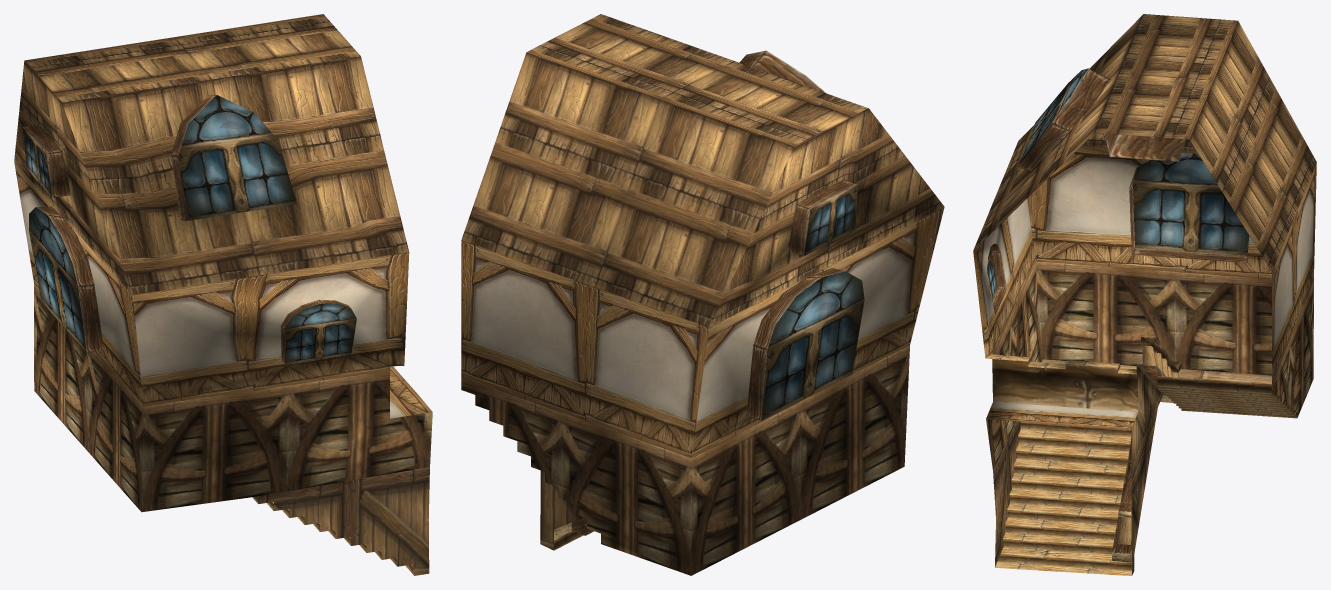
File: stormwind_059.fbx
3 views of the same model, side by side, from view 1: azimuth 30°, elevation 25°; view 2: azimuth 150°, elevation 25°; view 3: azimuth 270°, elevation 25° (orthographic). The views are drawn at different scales.
Visible parts, largest first — view 1: stormwind_059_55, stormwind_059_49, stormwind_059_48, stormwind_059_84, stormwind_059_56, stormwind_059_53; view 2: stormwind_059_55, stormwind_059_48, stormwind_059_49, stormwind_059_84, stormwind_059_53, stormwind_059_56; view 3: stormwind_059_53, stormwind_059_55, stormwind_059_49, stormwind_059_48, stormwind_059_84, stormwind_059_56, stormwind_059_54, stormwind_059_51.
Part boxes in pixels (left/top/right/bottom): stormwind_059_55: left=14, top=14, right=408, bottom=294; stormwind_059_49: left=34, top=283, right=432, bottom=512; stormwind_059_48: left=14, top=162, right=432, bottom=418; stormwind_059_84: left=22, top=95, right=356, bottom=365; stormwind_059_56: left=258, top=467, right=429, bottom=575; stormwind_059_53: left=23, top=95, right=414, bottom=575; stormwind_059_55: left=461, top=14, right=944, bottom=327; stormwind_059_48: left=461, top=207, right=944, bottom=458; stormwind_059_49: left=461, top=345, right=909, bottom=575; stormwind_059_84: left=761, top=185, right=864, bottom=420; stormwind_059_53: left=554, top=50, right=857, bottom=550; stormwind_059_56: left=540, top=470, right=583, bottom=550; stormwind_059_53: left=985, top=68, right=1297, bottom=575; stormwind_059_55: left=973, top=14, right=1316, bottom=271; stormwind_059_49: left=986, top=261, right=1313, bottom=470; stormwind_059_48: left=973, top=145, right=1316, bottom=429; stormwind_059_84: left=987, top=68, right=1249, bottom=301; stormwind_059_56: left=993, top=365, right=1162, bottom=575; stormwind_059_54: left=1112, top=345, right=1178, bottom=562; stormwind_059_51: left=1042, top=359, right=1271, bottom=383.
Size of the model in its own units: 10.29 by 15.25 by 11.06.
